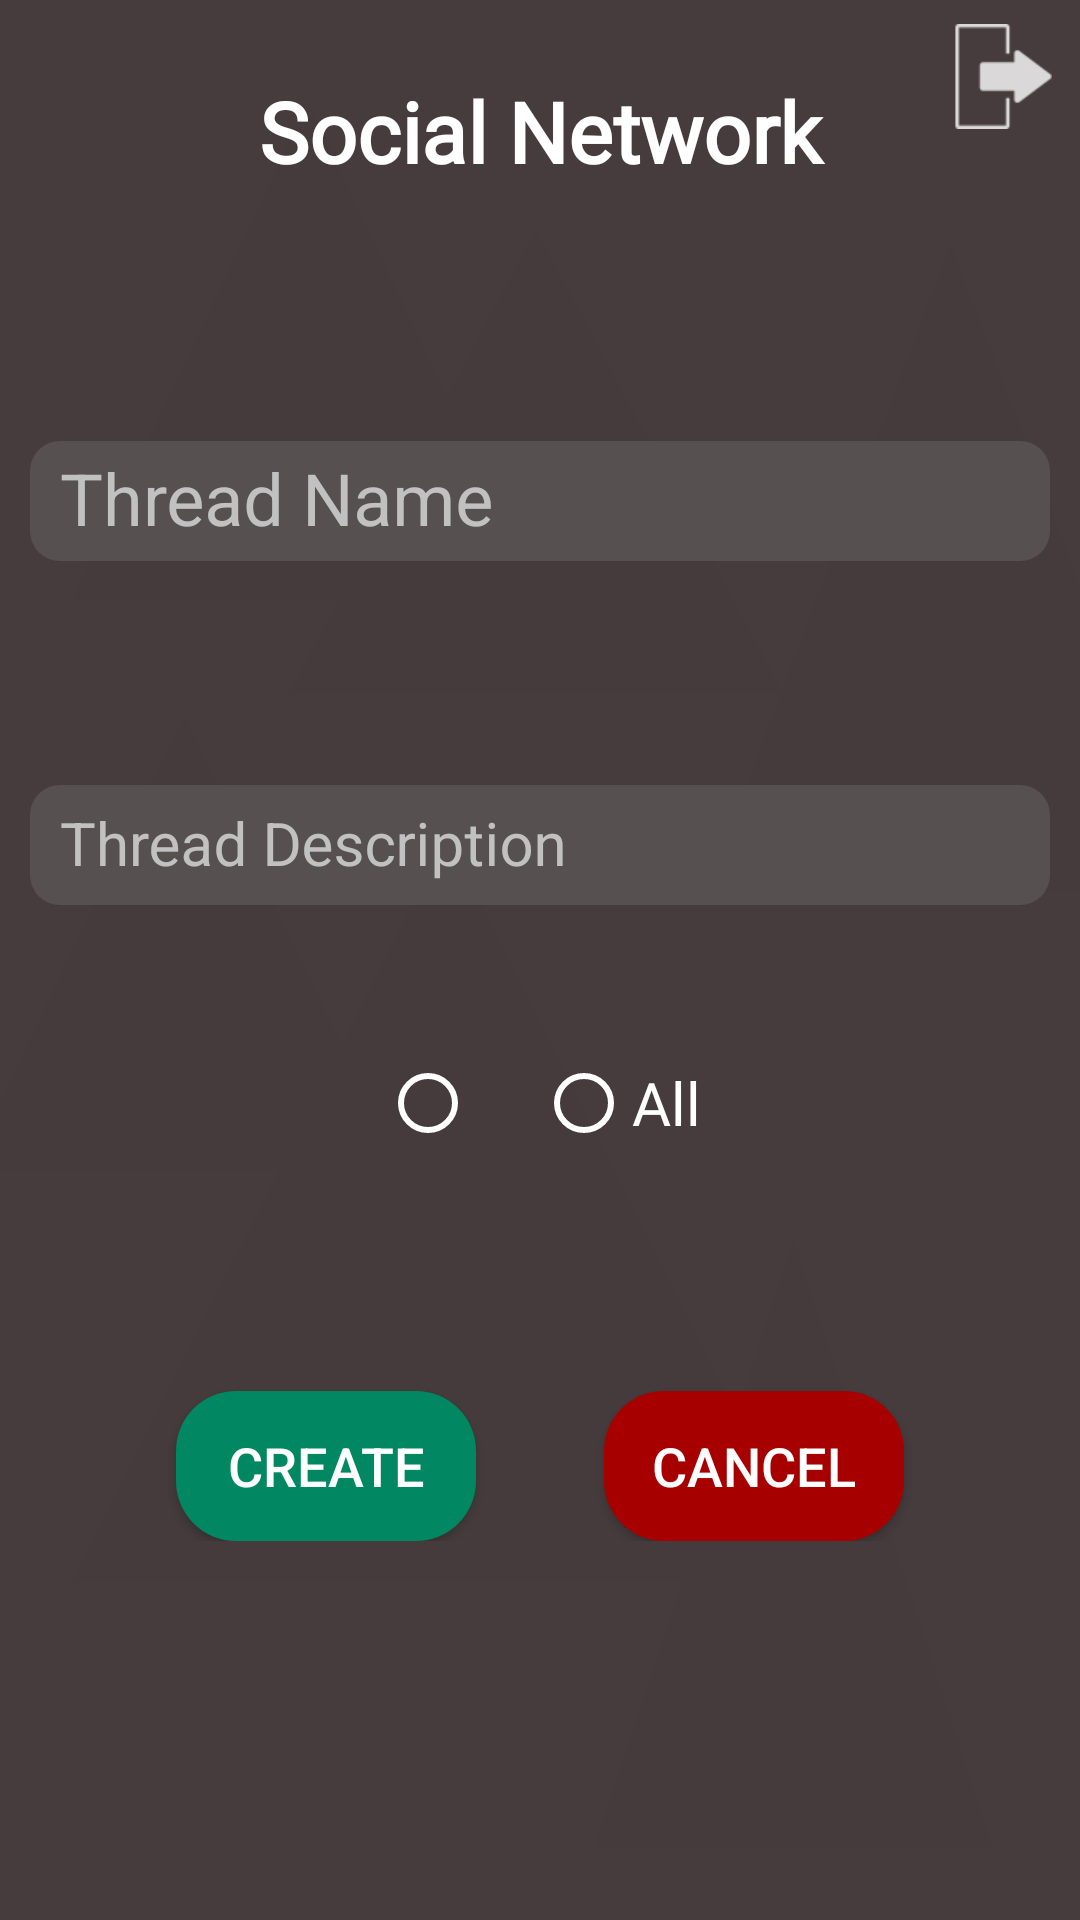

Locate icon controls on the screen. Image size 1080*1920, boxes as [left=x1, top=y1, right=x2, bottom=y2].
log out: [left=955, top=24, right=1052, bottom=129]
